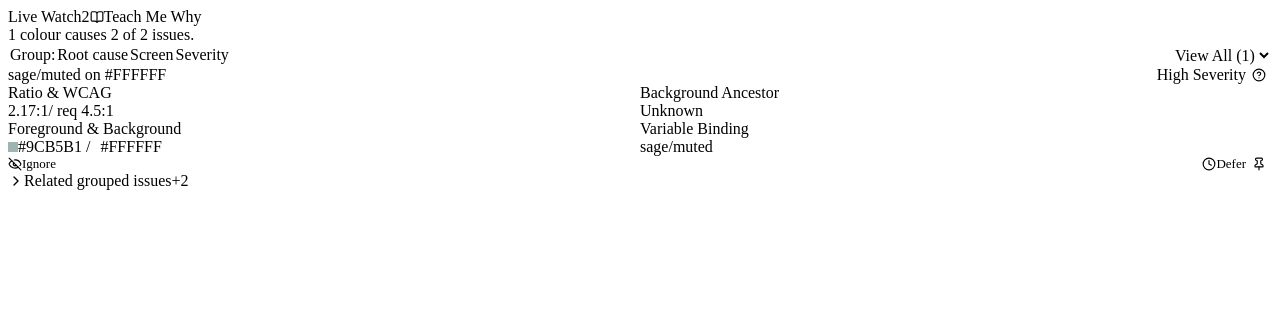
IssuePanel › shows the selection banner on Focus layers and restores on the Restore button
Click the text "Related grouped issues". click: x=98, y=181
box: x1=24 y1=172 x2=172 y2=190
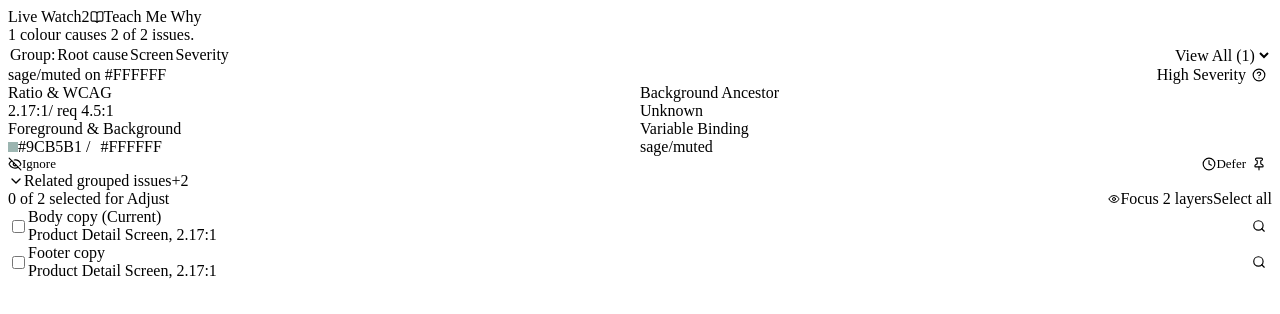
Click the button "Focus 2 layers". click: x=1161, y=199
box: x1=1108 y1=190 x2=1213 y2=208
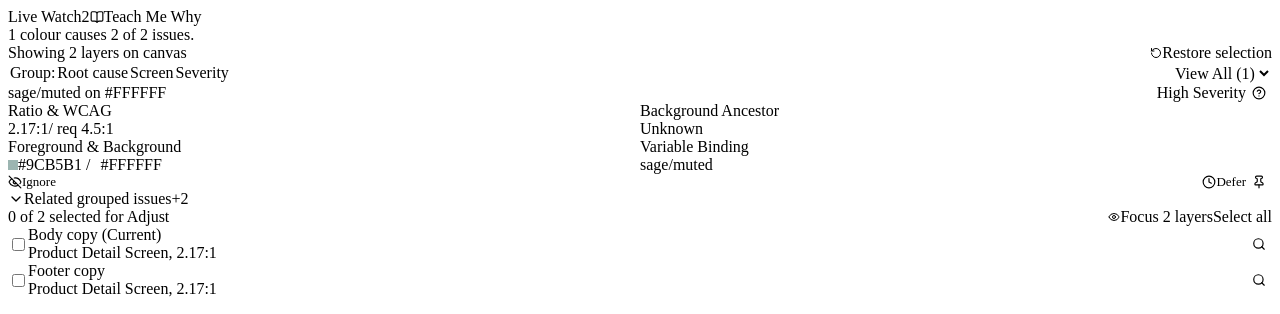
Expected: the text "Showing 2 layers on canvas" is shown, x1=8 y1=44 x2=187 y2=62
Click the button "Restore selection". click: x=1211, y=53
box: x1=1150 y1=44 x2=1272 y2=62
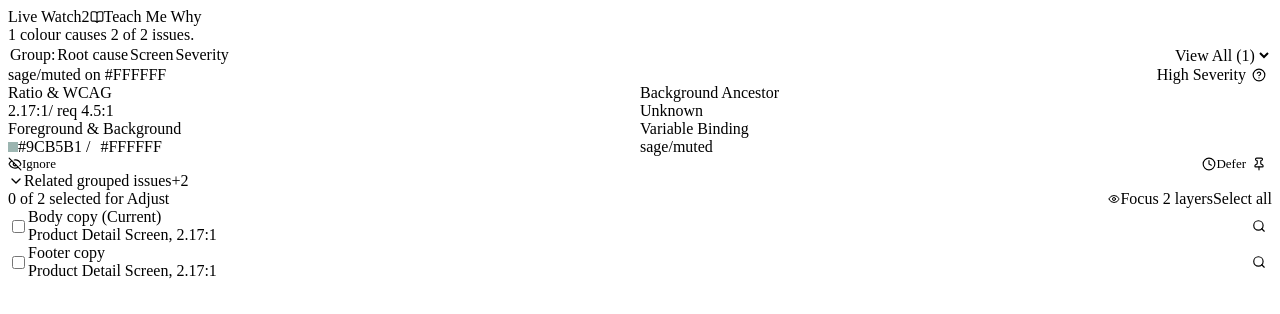
Expected: the text "Showing 2 layers on canvas" is gone
